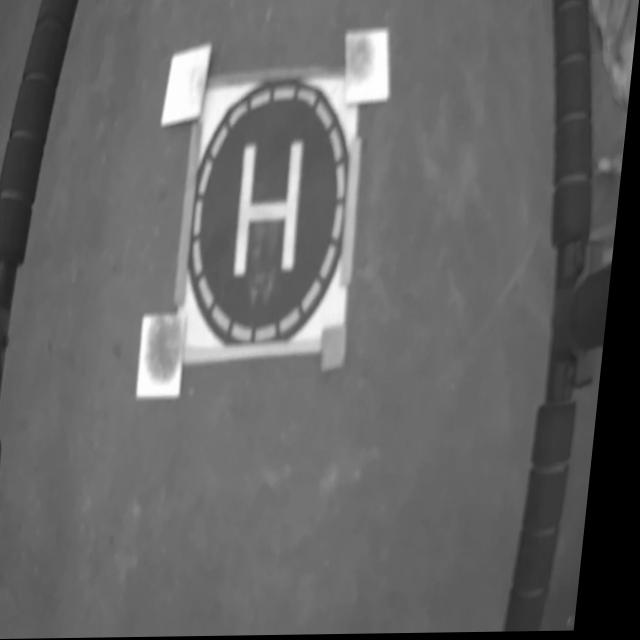Helipad: (239, 141, 309, 277)
